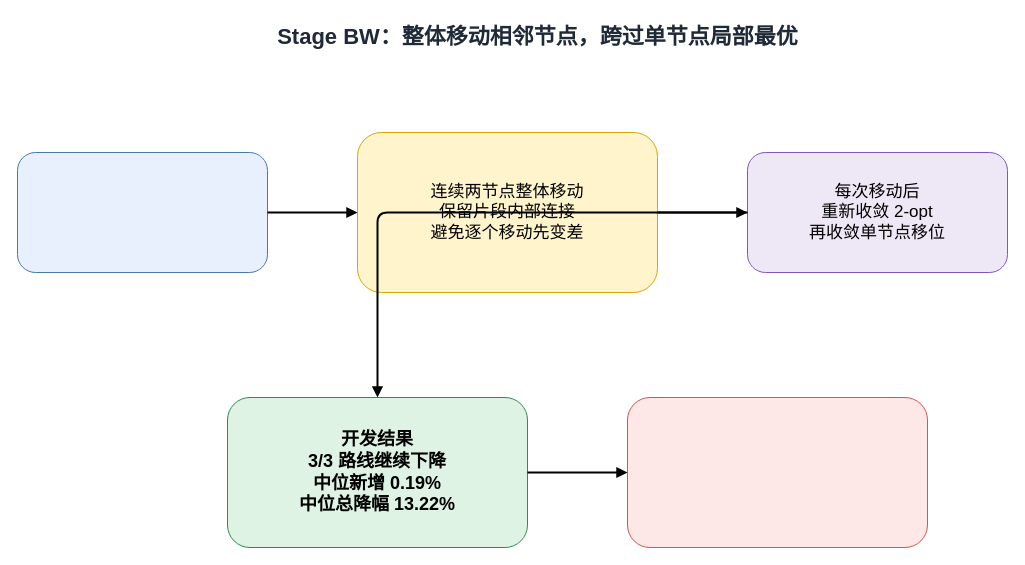
The diagram is 1025 pixels wide and 565 high, and some of its shapes have lost their labels. Here are the shapes that lost their labels. From the top down, the centre of each, then its label:
At pixel 142 212: "Stage BV 单节点移位自然停止 中位总降幅 13.06%".
At pixel 777 472: "下一步 冻结同一日程 在 28 个外部确认实例上 只检验新增邻域".
